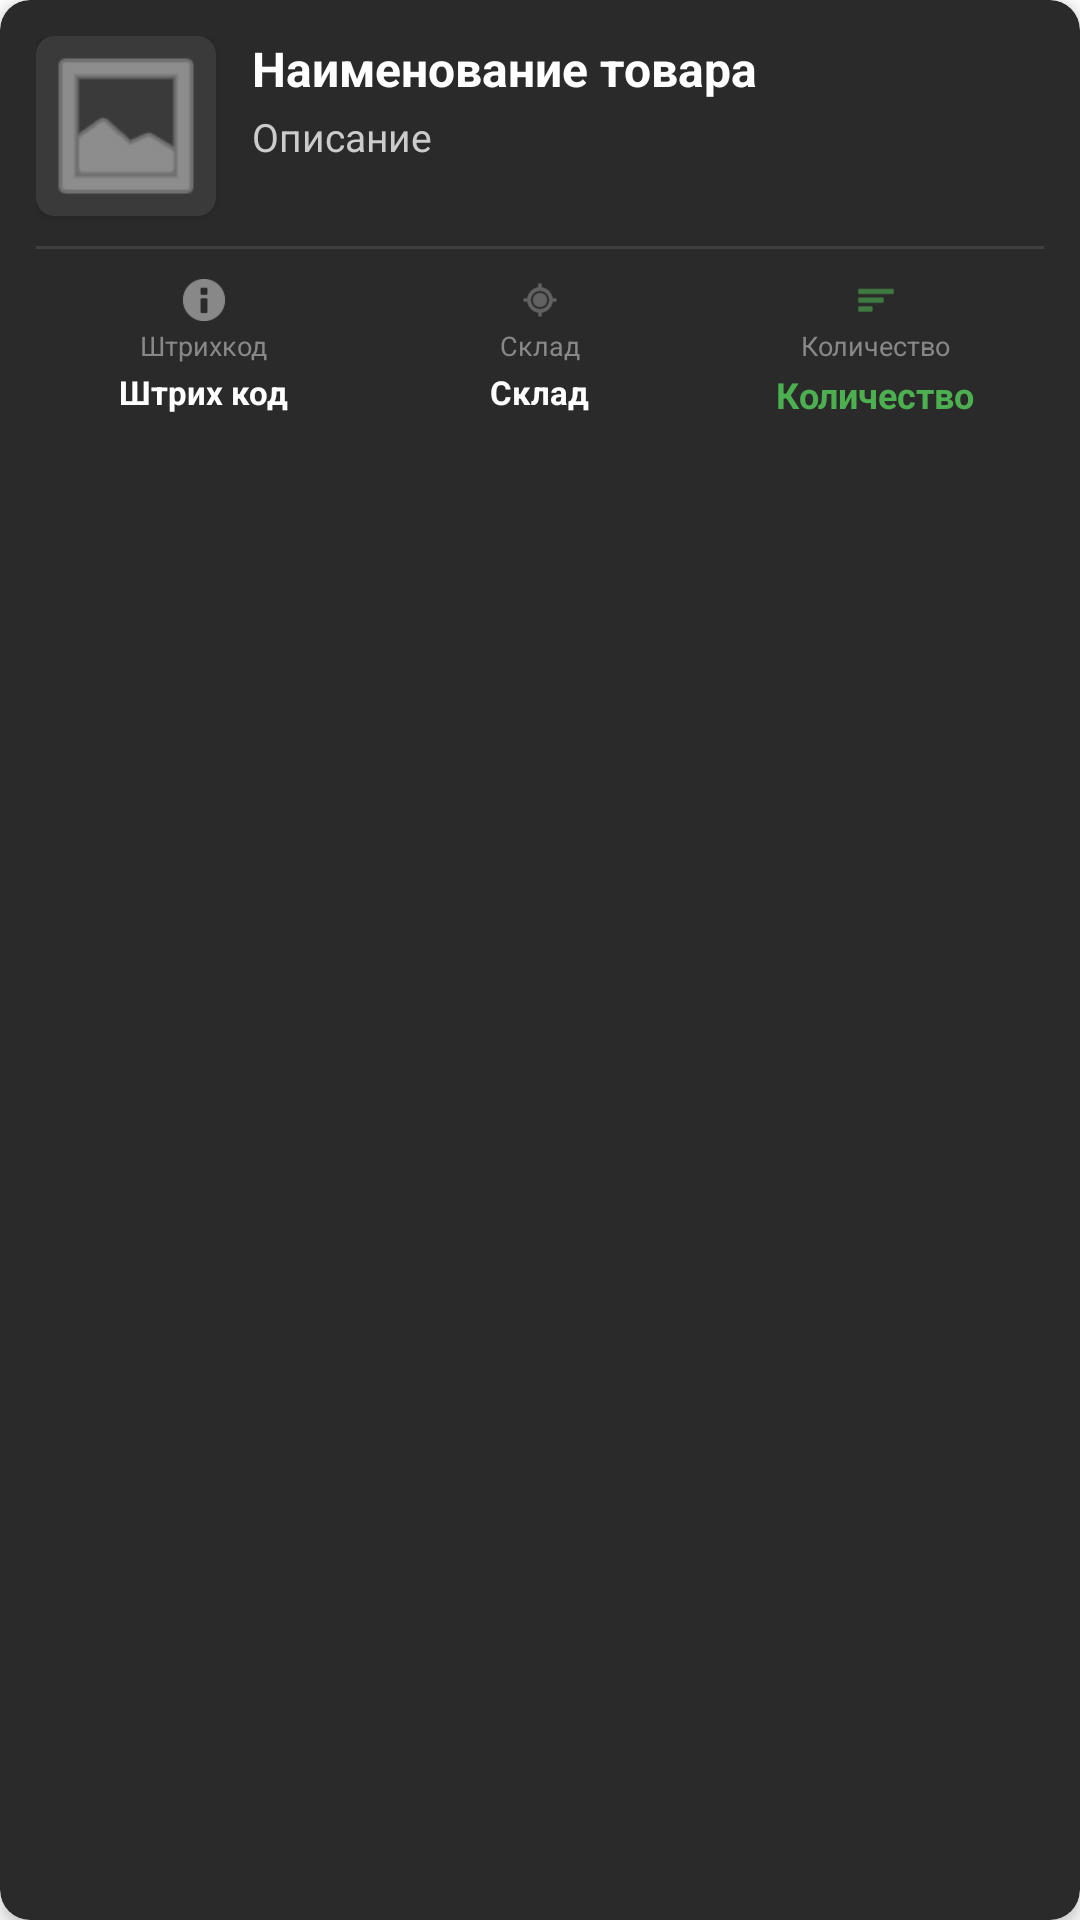

Screen size 1080px×1920px. Icon name, then its box in pixels as BBox(x1, y1, x2, y2):
gallery: BBox(58, 58, 194, 194)
info: BBox(183, 279, 225, 321)
mylocation: BBox(523, 283, 557, 317)
sort by size: BBox(858, 289, 894, 312)
